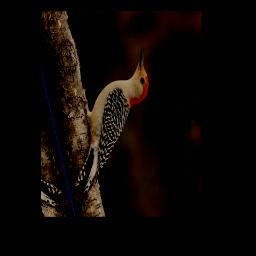Woodpecker: (49, 47, 171, 213)
